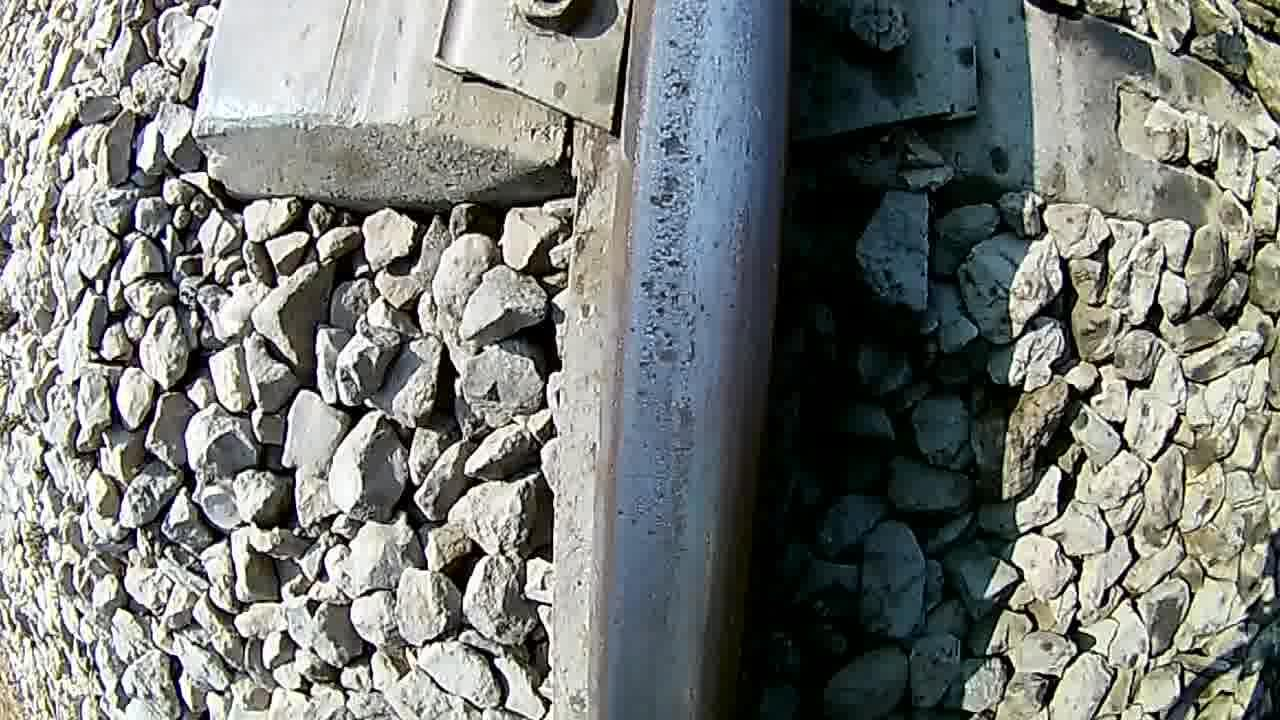crack: (613, 1, 784, 720)
